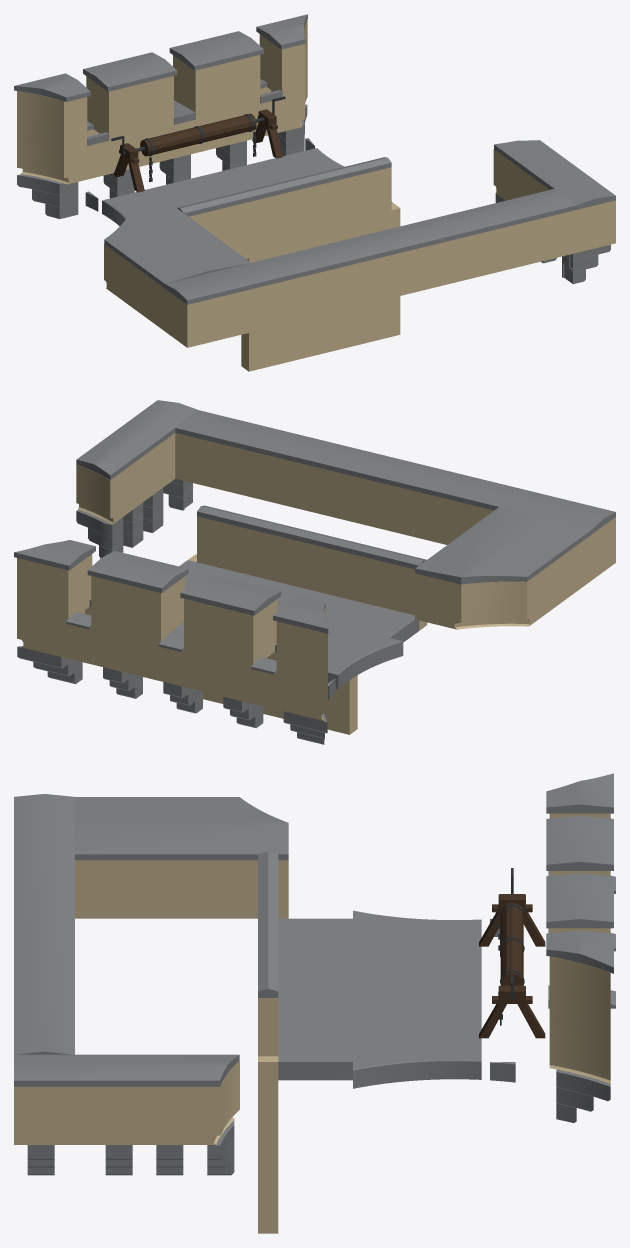
3 renders of one model, top to bottom at view 1: azimuth 30°, elevation 25°; view 2: azimuth 150°, elevation 25°; view 3: azimuth 270°, elevation 25°, orthographic. The views are drawn at different scales.
Visible parts, largest first — view 1: Mesh_GateCrown_ck-limestone-ashlar, Mesh_GateCrown_ck-granite-ashlar, Mesh_GateCrown_ck-oak-planks, Mesh_GateCrown_ck-iron; view 2: Mesh_GateCrown_ck-limestone-ashlar, Mesh_GateCrown_ck-granite-ashlar; view 3: Mesh_GateCrown_ck-granite-ashlar, Mesh_GateCrown_ck-limestone-ashlar, Mesh_GateCrown_ck-oak-planks.
Boxes of the visible parts, x1=… form: Mesh_GateCrown_ck-limestone-ashlar: x1=17, y1=20, x2=615, y2=371; Mesh_GateCrown_ck-granite-ashlar: x1=14, y1=14, x2=615, y2=304; Mesh_GateCrown_ck-oak-planks: x1=113, y1=109, x2=283, y2=192; Mesh_GateCrown_ck-iron: x1=111, y1=96, x2=285, y2=182; Mesh_GateCrown_ck-limestone-ashlar: x1=17, y1=433, x2=615, y2=734; Mesh_GateCrown_ck-granite-ashlar: x1=14, y1=400, x2=615, y2=744; Mesh_GateCrown_ck-granite-ashlar: x1=14, y1=773, x2=615, y2=1175; Mesh_GateCrown_ck-limestone-ashlar: x1=14, y1=813, x2=610, y2=1233; Mesh_GateCrown_ck-oak-planks: x1=479, y1=894, x2=545, y2=1038.
Bounding box in the file's own units: 9.9 × 4.8 × 8.88.
